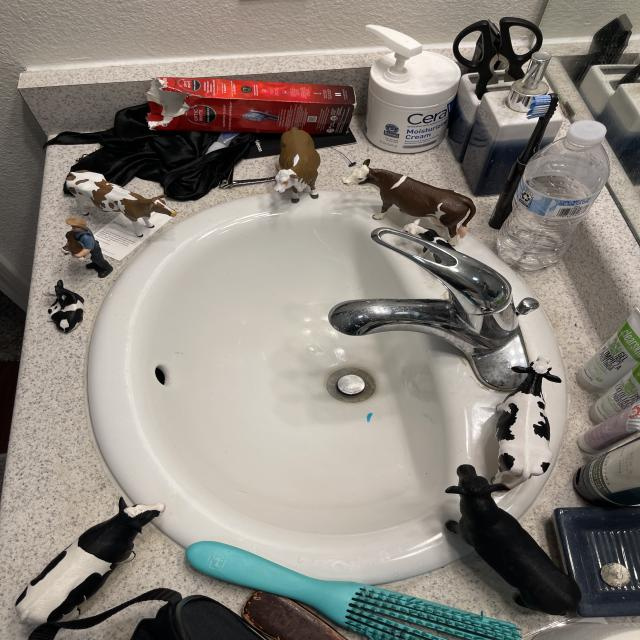cow: (422, 454, 602, 634), (1, 476, 177, 640), (56, 165, 182, 245), (489, 353, 561, 492), (353, 164, 480, 242), (273, 126, 322, 203), (34, 278, 94, 337), (402, 215, 445, 253), (56, 228, 91, 265)
person: (61, 211, 115, 283)
